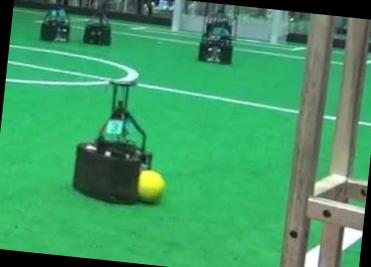ball: (137, 168, 163, 201)
goal: (269, 9, 281, 42), (170, 0, 180, 29)
robot: (72, 83, 152, 203), (197, 2, 236, 62), (82, 5, 111, 44), (39, 7, 68, 40)
